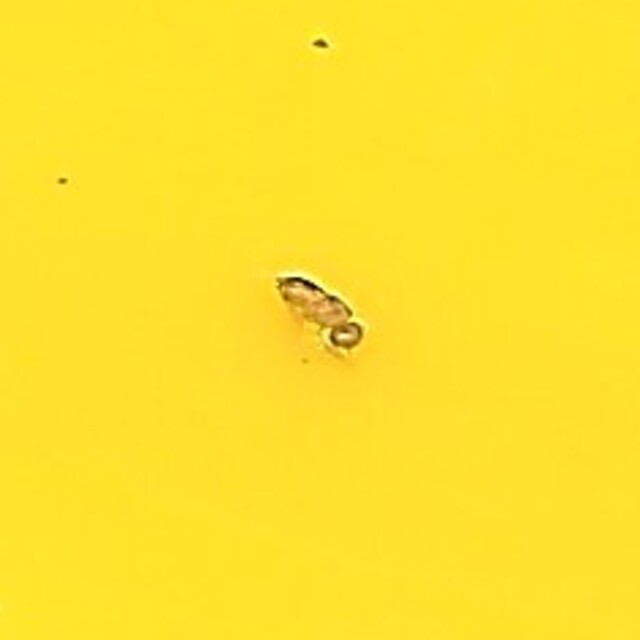Hymenoptera: (271, 267, 369, 373)
